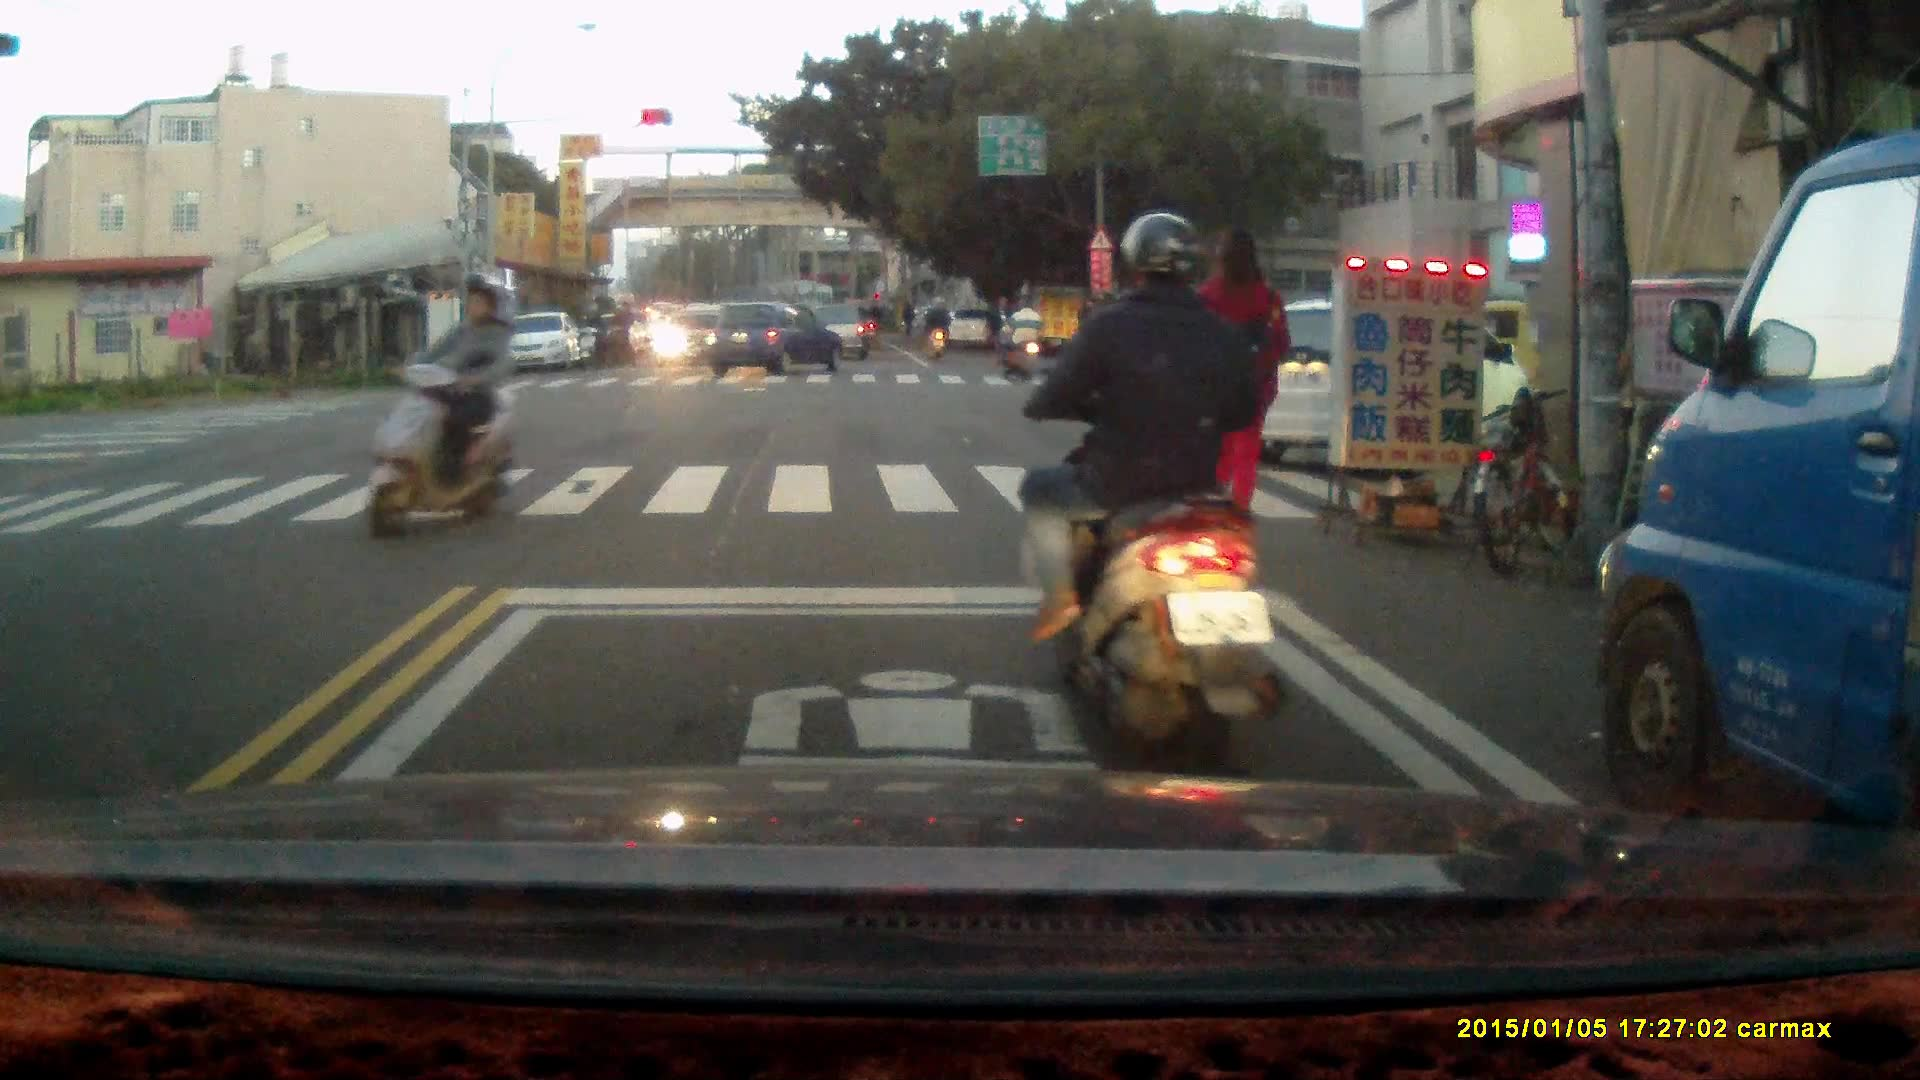pedestrian: (1181, 225, 1290, 556), (987, 292, 1011, 367)
rider: (1009, 207, 1297, 790), (356, 274, 511, 544), (998, 293, 1048, 378), (575, 302, 607, 370), (921, 292, 950, 361), (602, 301, 632, 364)
vehicle: (1598, 132, 1920, 886), (1233, 296, 1533, 459), (705, 302, 843, 382), (498, 313, 586, 377), (799, 302, 876, 366)
